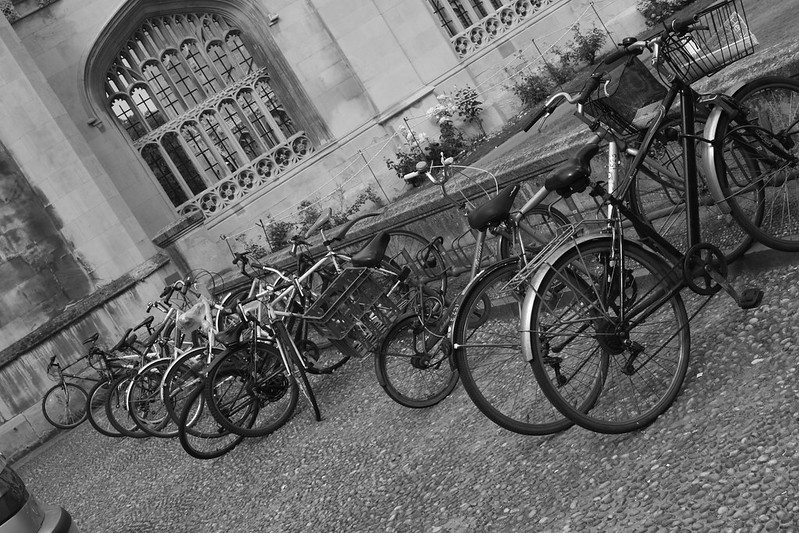bicycle: (530, 4, 797, 439), (204, 187, 423, 440), (360, 137, 519, 424)
